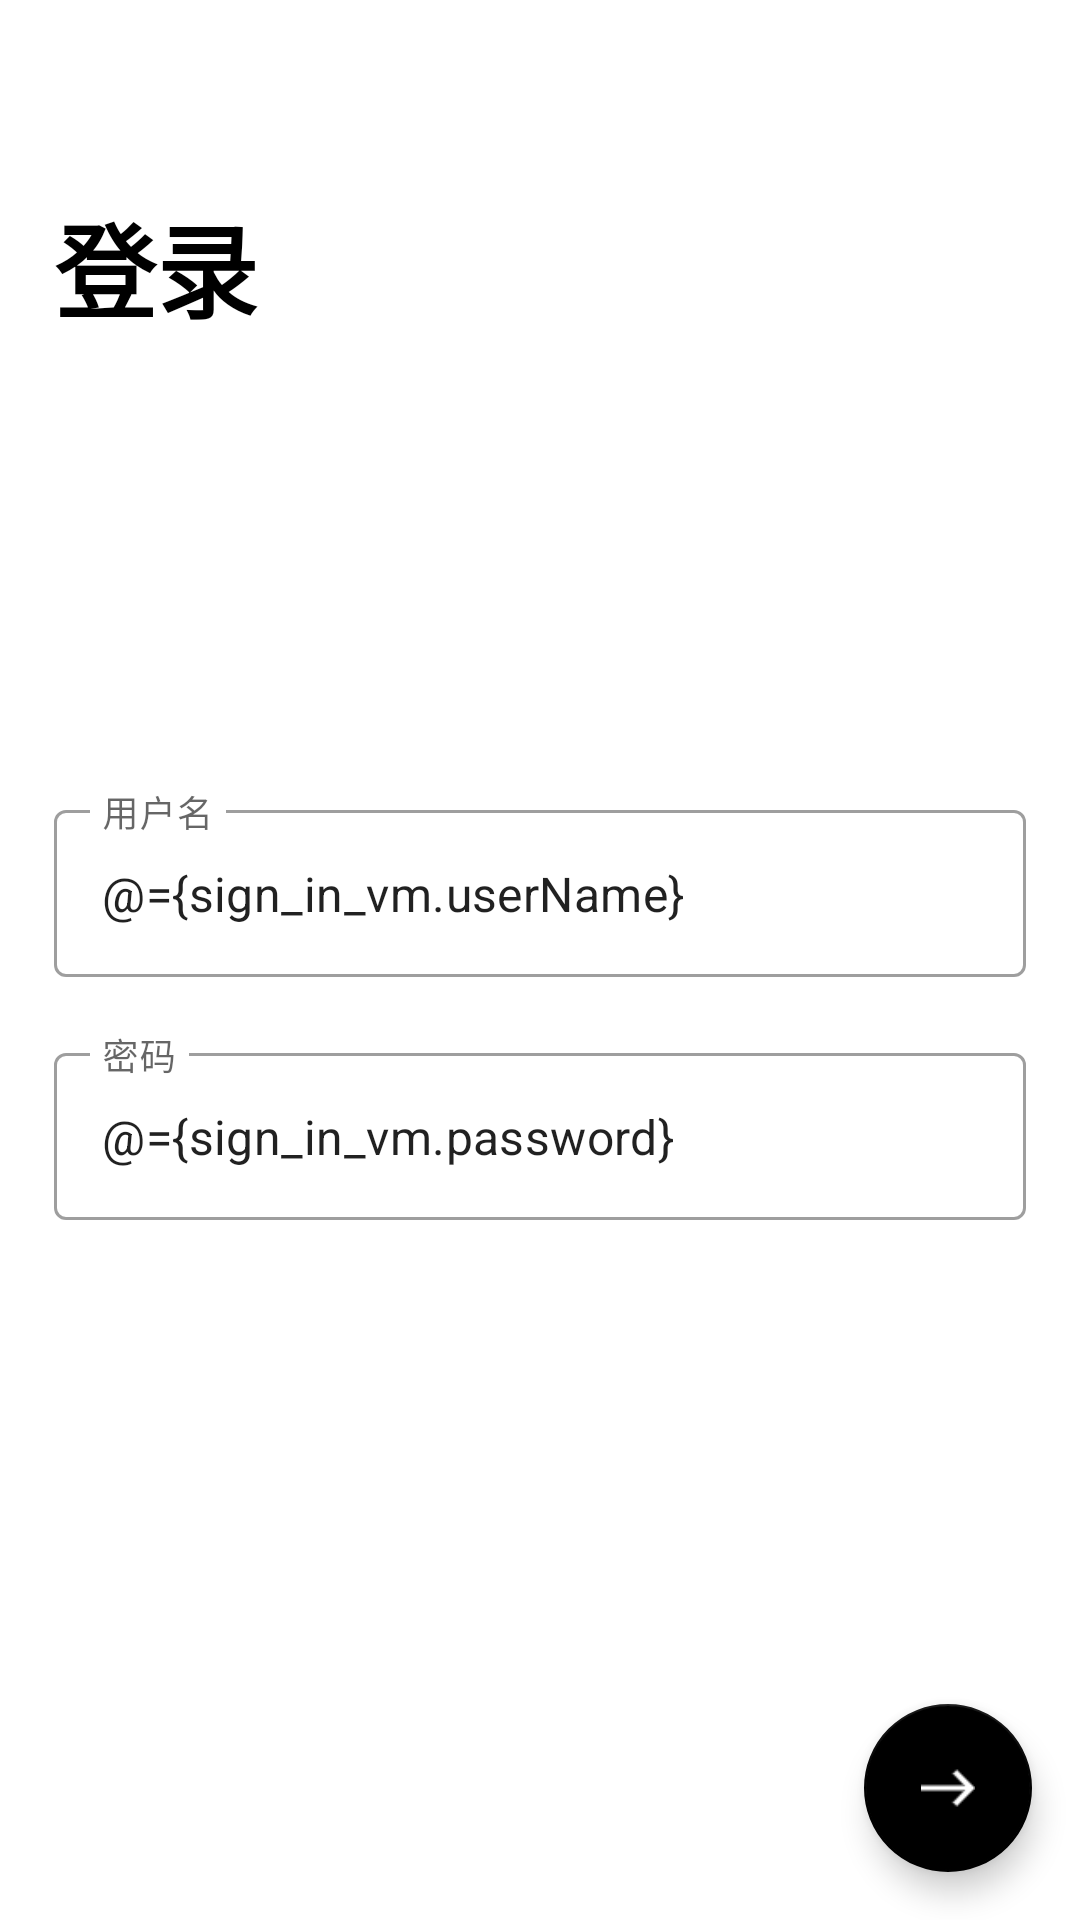

Icons on this 1080×1920 Android screen, each with its box as (x1, y1, x2, y2):
arrow: (864, 1704, 1032, 1872)
